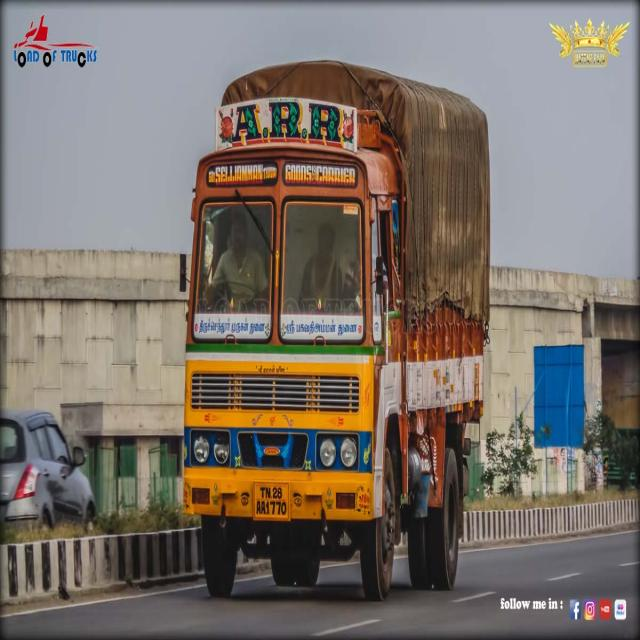Plate: (252, 477, 292, 525)
truck: (181, 65, 488, 600)
